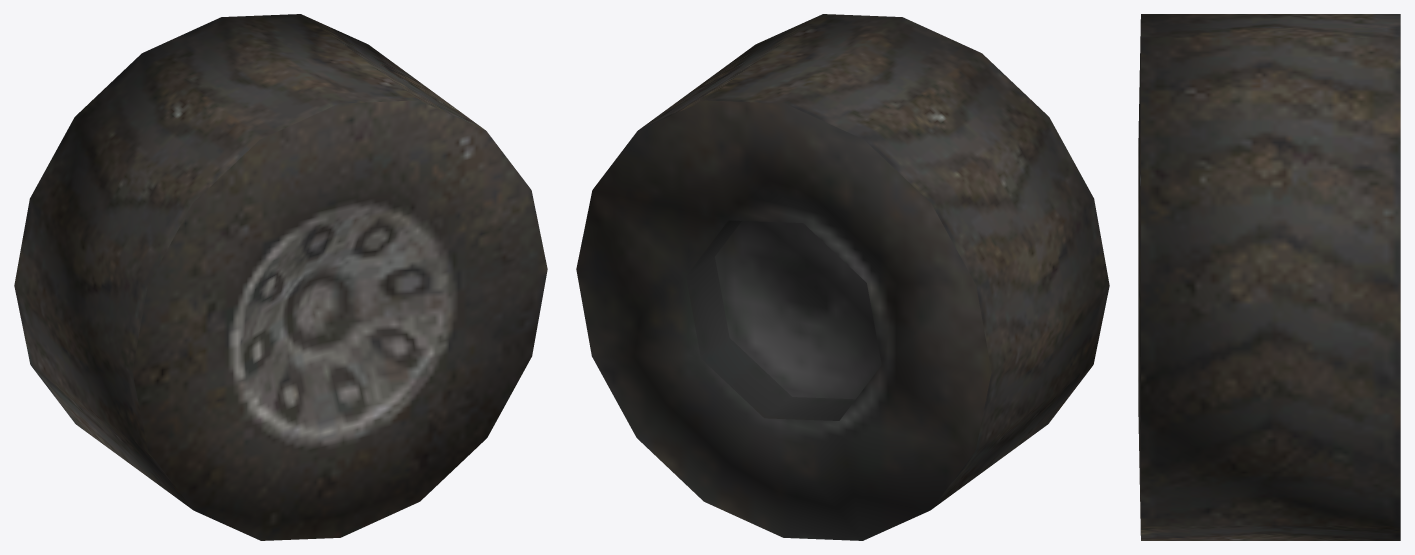
Rendered from t5_veh_rcbomb_gib_tire_LOD0.obj.
3 views of the same model, side by side, from view 1: azimuth 30°, elevation 25°; view 2: azimuth 150°, elevation 25°; view 3: azimuth 270°, elevation 25° (orthographic). The views are drawn at different scales.
Parts seen in each view (by area): view 1: mtl_t5_veh_rcbomb_allies; view 2: mtl_t5_veh_rcbomb_allies; view 3: mtl_t5_veh_rcbomb_allies.
Part boxes in pixels (x1,y1,x2,y2): mtl_t5_veh_rcbomb_allies: [14, 14, 547, 540]; mtl_t5_veh_rcbomb_allies: [576, 14, 1109, 540]; mtl_t5_veh_rcbomb_allies: [1138, 14, 1400, 540].
Bounding box in the file's own units: 16.88 × 16.88 × 8.4.
